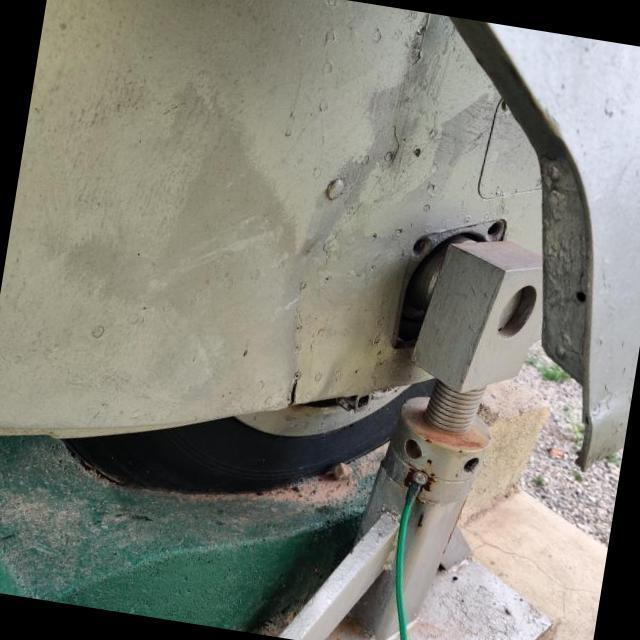Rupture: (272, 368, 310, 414)
